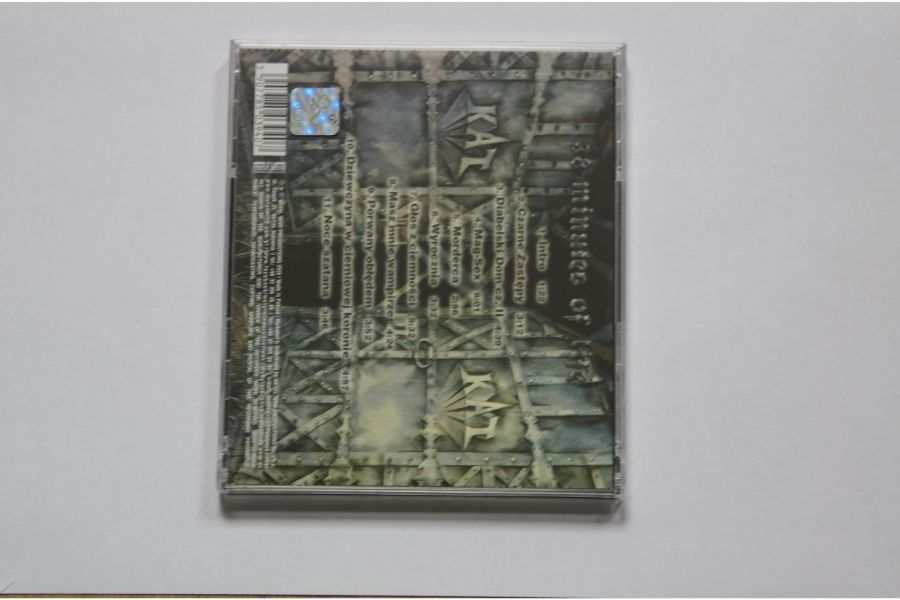album: (217, 40, 623, 506)
